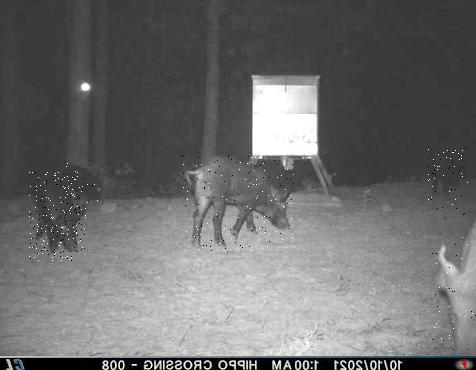Hog: (182, 155, 294, 251), (432, 181, 476, 351), (29, 170, 86, 261), (426, 148, 466, 201), (65, 163, 99, 204)
